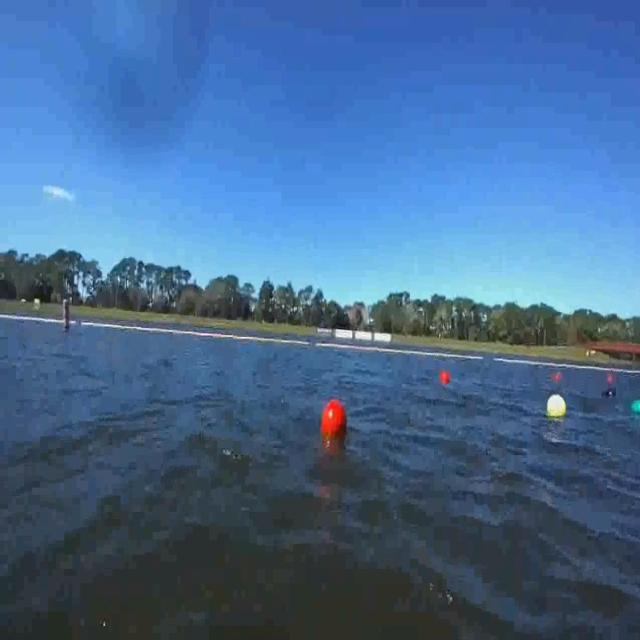black-buoy: (602, 388, 614, 398)
green-buoy: (631, 402, 640, 418)
red-buoy: (321, 399, 347, 438), (442, 371, 452, 386), (554, 373, 563, 383)
yellow-buoy: (548, 396, 568, 421)
